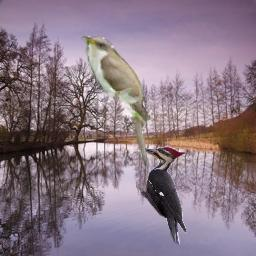Cuckoo: (78, 32, 153, 172)
Woodpecker: (136, 147, 187, 246)
